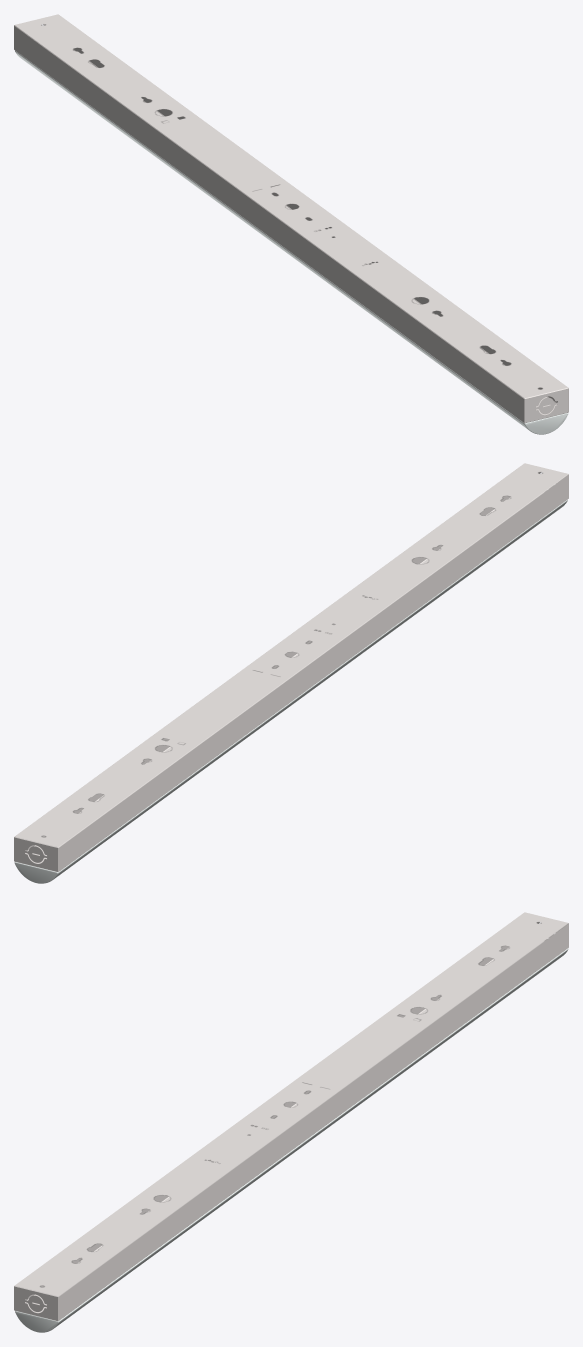
The picture shows the model from 3 angles, top to bottom: view 1: azimuth 30°, elevation 25°; view 2: azimuth 150°, elevation 25°; view 3: azimuth 330°, elevation 25°; orthographic projection.
Parts seen in each view (by area): view 1: 立方体.004, 光板.006; view 2: 立方体.004, 光板.006; view 3: 立方体.004, 光板.006.
Part boxes in pixels (<box>): 立方体.004: <box>14,14,568,423</box>; 光板.006: <box>15,50,568,434</box>; 立方体.004: <box>14,463,568,872</box>; 光板.006: <box>14,499,567,883</box>; 立方体.004: <box>14,912,568,1321</box>; 光板.006: <box>15,948,568,1332</box>.
Size of the model in its own units: 0.062 by 0.0545 by 1.22.
3 materials, 1 textured.
